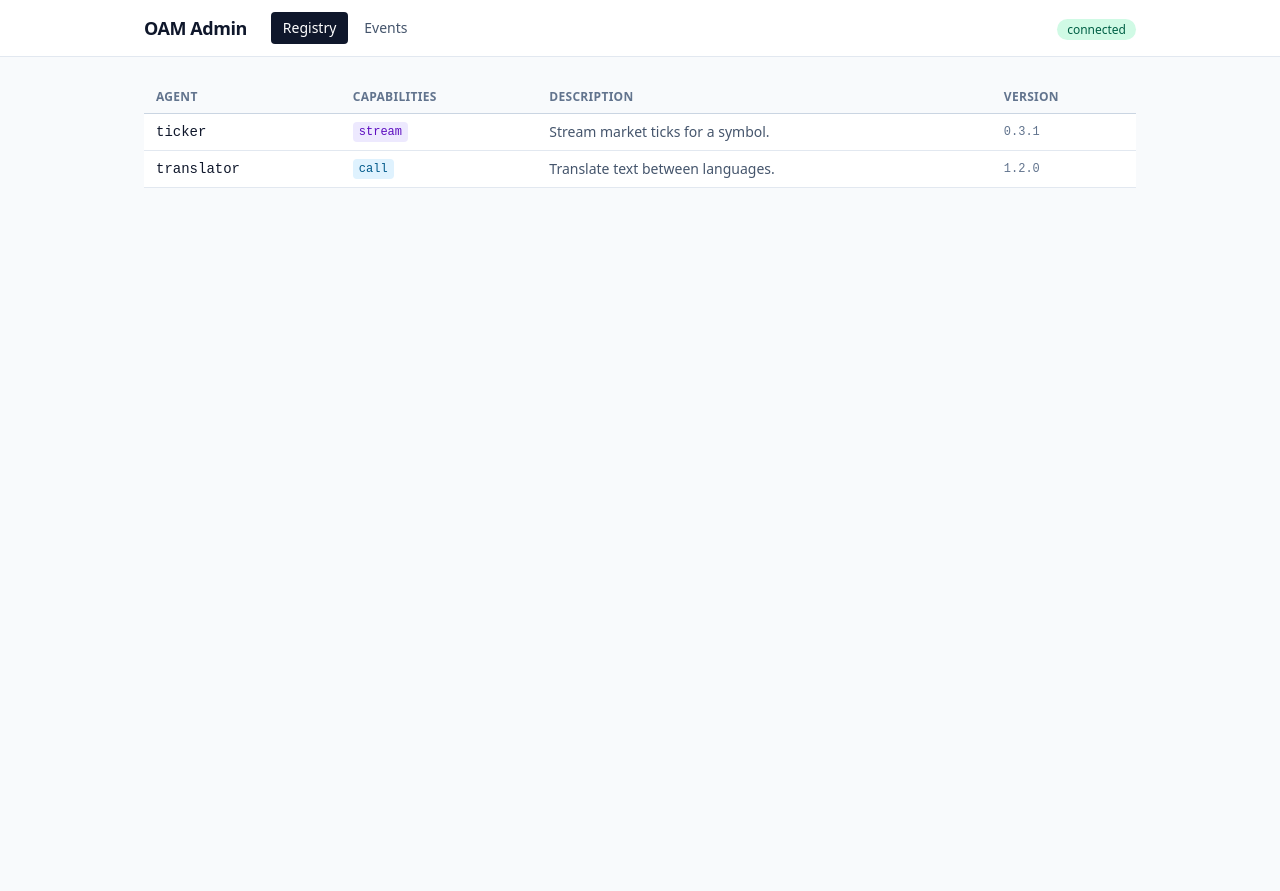
Test: registry screen › navigates to the agent detail when a row is clicked
Click the text "translator".
click(198, 169)  # box [156,161,240,177]
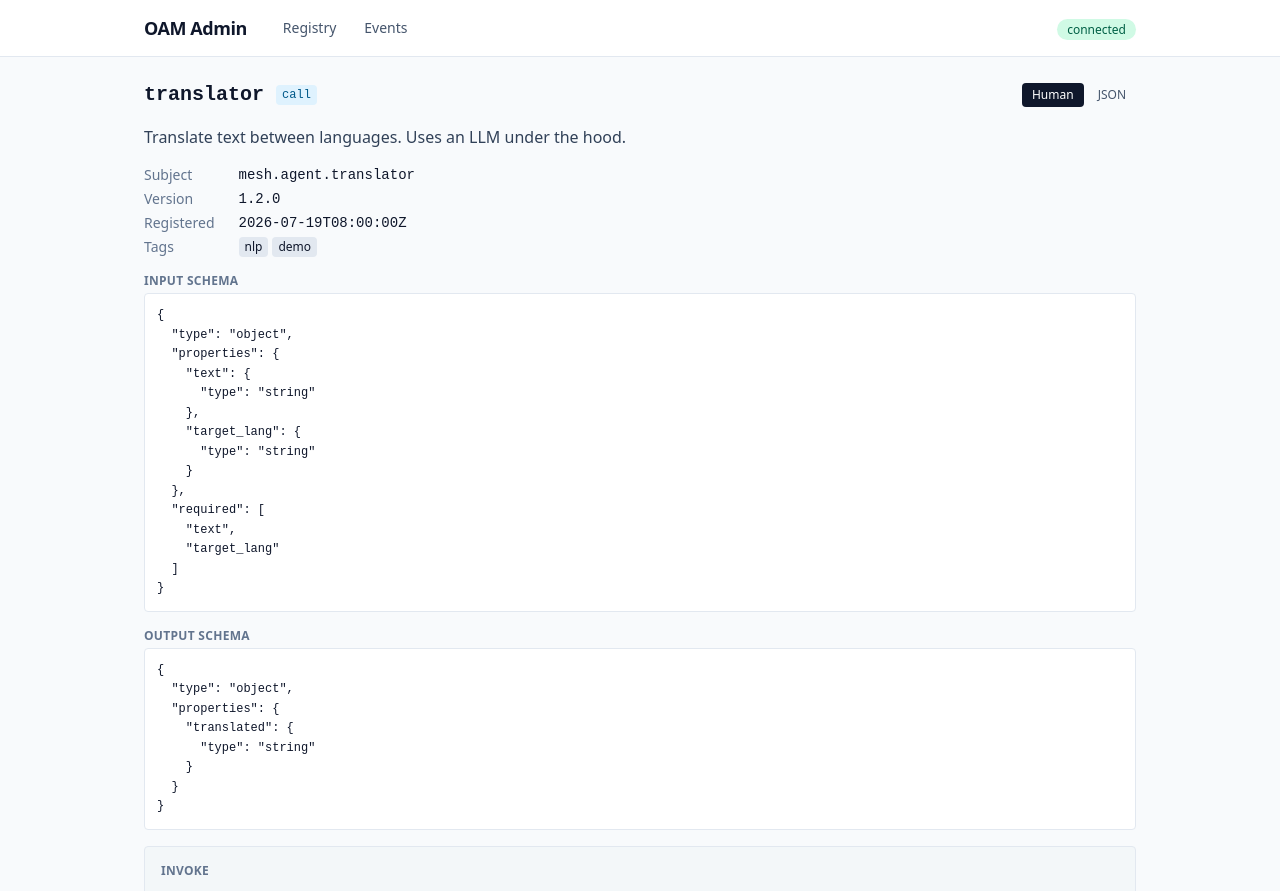
Result: the text "mesh.agent.translator" is shown at [238,167,415,183]
